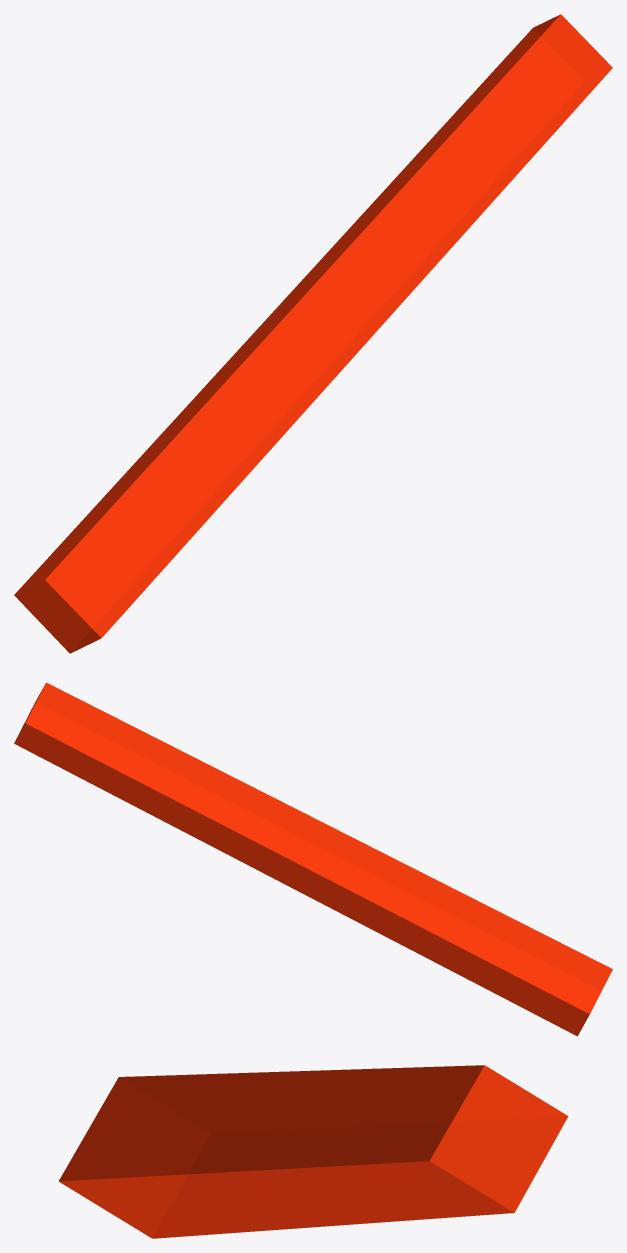
Rendered from Event_421115418_EBrechit_21.fbx.
3 views of the same model, one above another, from view 1: azimuth 30°, elevation 25°; view 2: azimuth 150°, elevation 25°; view 3: azimuth 270°, elevation 25° (orthographic). The views are drawn at different scales.
Parts seen in each view (by area): view 1: Model; view 2: Model; view 3: Model.
Boxes of the visible parts, box(x1,y1,x2,y2) form: Model: box(14, 14, 612, 653); Model: box(14, 682, 612, 1036); Model: box(58, 1065, 568, 1238).
Size of the model in its own units: 0.6332 by 0.3697 by 0.2797.
